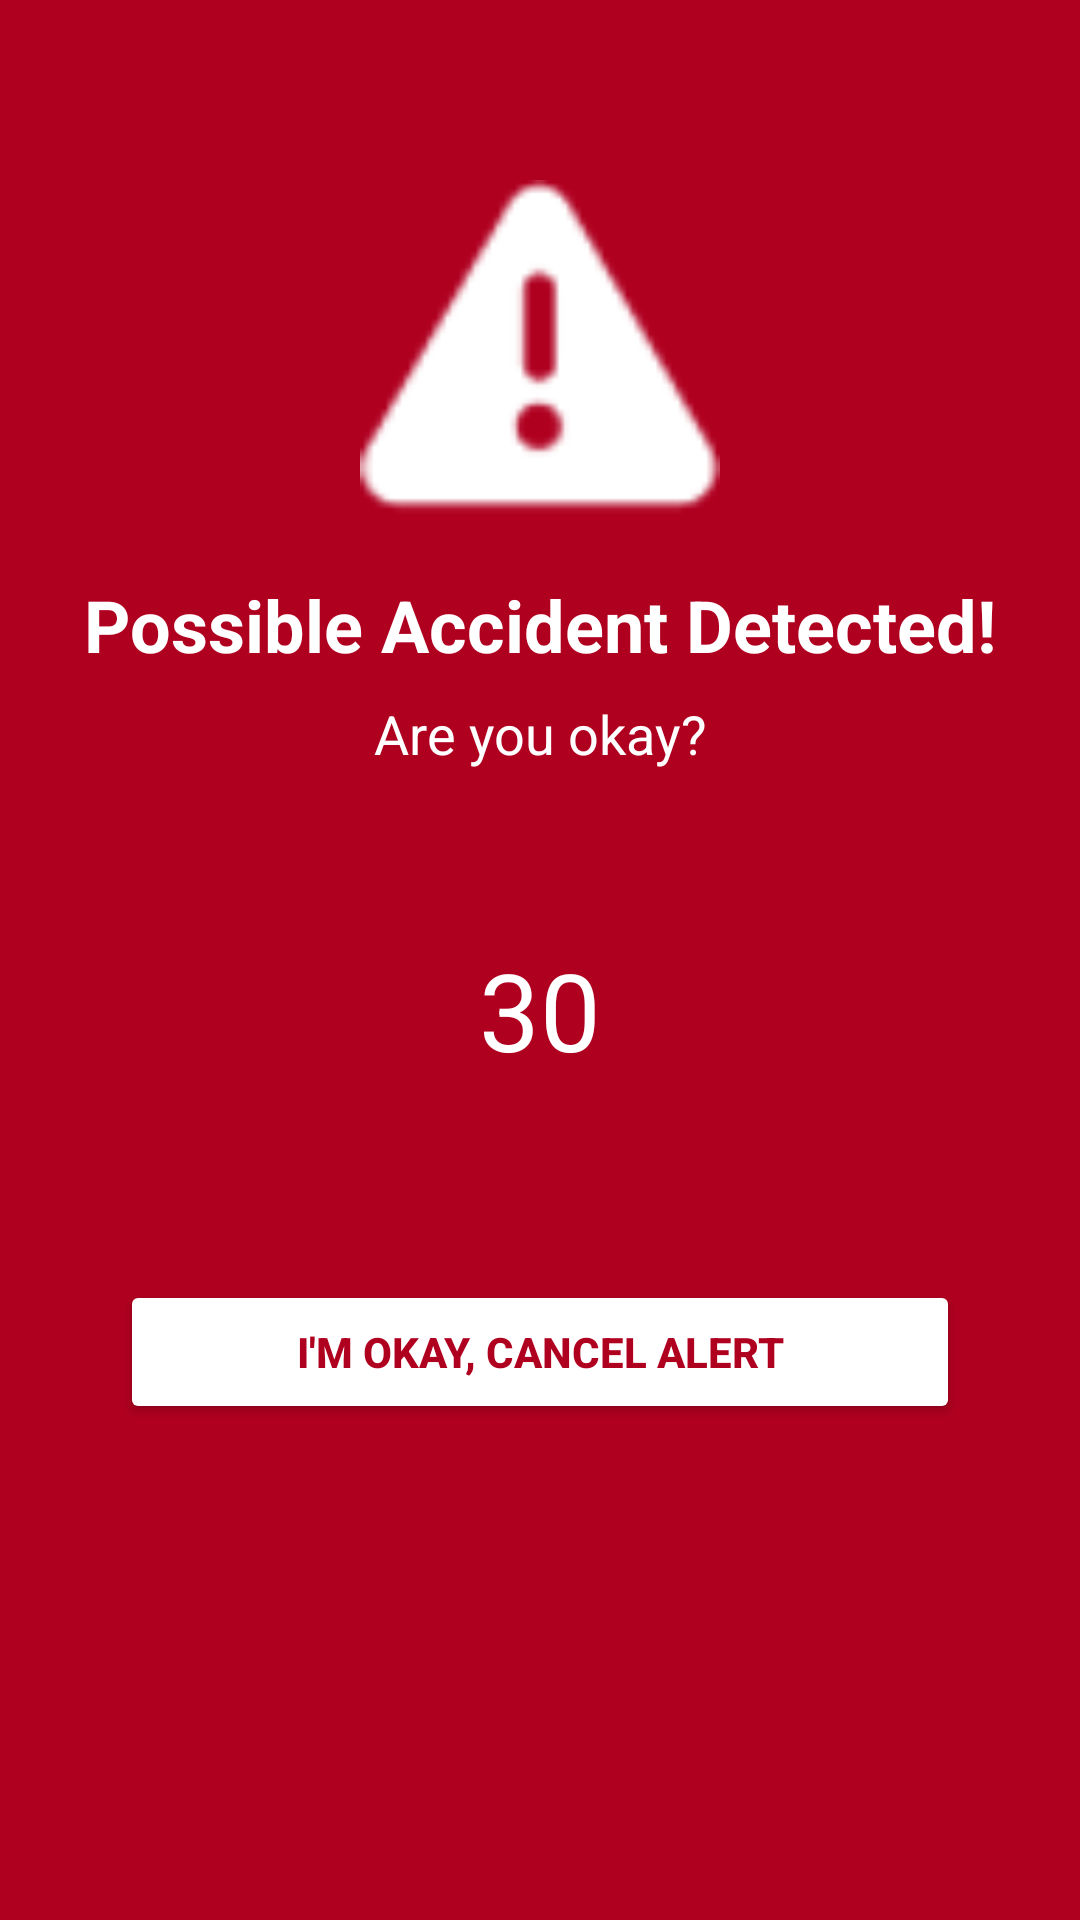

Screen size 1080w x 1920h. Icon name, then its box in pixels as (x1, y1, x2, y2):
alert: (360, 180, 720, 509)
